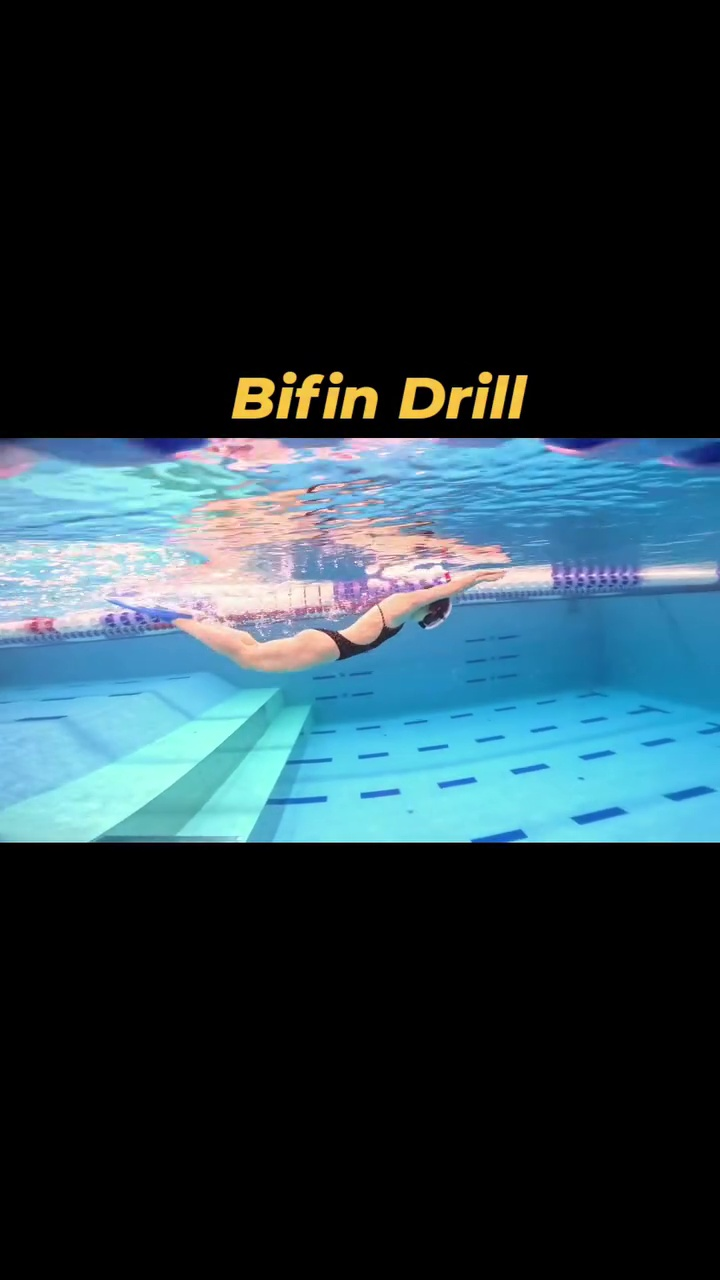swimmer: (106, 566, 624, 671)
